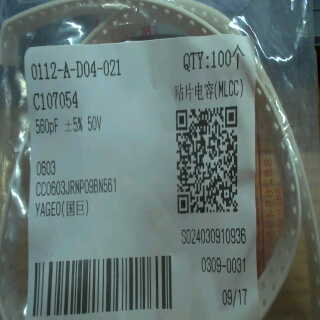560pF: (31, 114, 59, 140)
